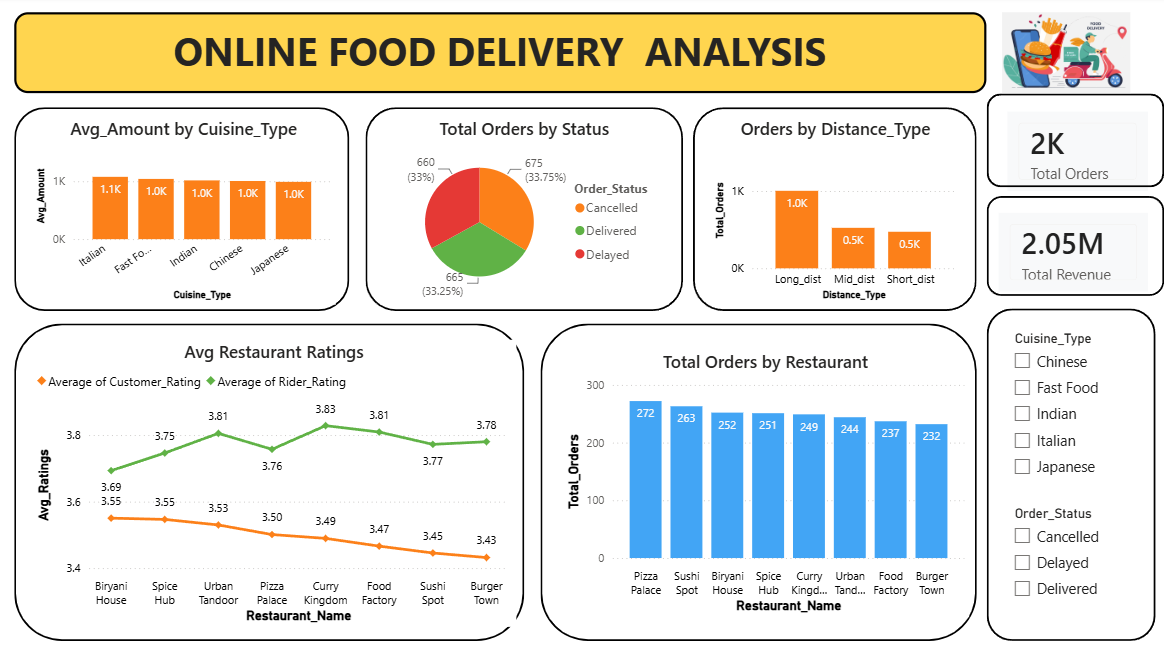

The page's visual inventory and layout, read from the dashboard file:
{"tool":"powerbi","page":{"name":"Page 1","canvas":[1280,720],"ordinal":0},"visuals":[{"type":"shape","box":[17.8,122.1,367.8,223.7],"z":0},{"type":"shape","box":[17.8,359.5,559.9,348.5],"z":1000},{"type":"shape","box":[403.4,122.1,348.5,223.7],"z":2000},{"type":"shape","box":[595.5,359.5,478.9,348.5],"z":3000},{"type":"shape","box":[763,122.1,311.5,223.7],"z":4000},{"type":"shape","box":[1085.4,343.1,185.2,365],"z":5000},{"type":"columnChart","title":"Avg_Amount by Cuisine_Type","fields":{"Y":["Avg(Table_OFD2.Final_Amount)"],"Category":["Table_OFD2.Cuisine_Type"]},"box":[37,133.1,333.4,205.8],"z":6000},{"type":"pieChart","title":"Total Orders by Status","fields":{"Y":["CountNonNull(Table_OFD2.Order_ID)"],"Category":["Table_OFD2.Order_Status"]},"box":[419.9,133.1,315.6,205.8],"z":7000},{"type":"clusteredColumnChart","title":"Total Orders  by Restaurant","fields":{"Y":["CountNonNull(Table_OFD2.Order_ID)"],"Category":["Table_OFD2.Restaurant_Name"]},"box":[618.9,388.3,447.3,293.7],"z":8000},{"type":"lineChart","title":"Avg Restaurant Ratings","fields":{"Y":["Avg(Table_OFD2.Customer_Rating)","Avg(Table_OFD2.Rider_Rating)"],"Category":["Table_OFD2.Restaurant_Name"]},"box":[36.7,377.9,531.9,315.5],"z":9000},{"type":"clusteredColumnChart","title":"Orders by Distance_Type","fields":{"Y":["CountNonNull(Table_OFD2.Order_ID)"],"Category":["Table_OFD2.Distance_Type"]},"box":[782.2,133.1,274.4,205.8],"z":10000},{"type":"slicer","fields":{"Values":["Table_OFD2.Cuisine_Type"]},"box":[1103.3,362.3,148.2,192.1],"z":11000},{"type":"slicer","fields":{"Values":["Table_OFD2.Order_Status"]},"box":[1103.3,554.4,148.2,138.6],"z":12000},{"type":"cardVisual","fields":{"Data":["Table_OFD2.Total Orders"]},"box":[1103.3,122.1,164.7,97.4],"z":13000},{"type":"shape","box":[1085.4,107,194.9,102.9],"z":14000},{"type":"cardVisual","fields":{"Data":["Table_OFD2.Total Revenue"]},"box":[1093.7,233.3,174.3,96.1],"z":15000},{"type":"shape","box":[1085.4,219.6,194.9,109.8],"z":16000},{"type":"textbox","box":[17.8,17.8,1067.6,89.2],"z":17000},{"type":"image","box":[1066.2,17.8,212.7,89.2],"z":18000}]}

Visuals, with their boxes in screenshot pixels (x1, y1, x2, y2), scaled from the page's 1280x720 canvas onto the 1164x647 screenshot:
shape: 16,110,351,311
shape: 16,323,525,636
shape: 367,110,684,311
shape: 542,323,977,636
shape: 694,110,977,311
shape: 987,308,1155,636
"Avg_Amount by Cuisine_Type" columnChart: 34,120,337,305
"Total Orders by Status" pieChart: 382,120,669,305
"Total Orders  by Restaurant" clusteredColumnChart: 563,349,970,613
"Avg Restaurant Ratings" lineChart: 33,340,517,623
"Orders by Distance_Type" clusteredColumnChart: 711,120,961,305
slicer - Table_OFD2.Cuisine_Type: 1003,326,1138,498
slicer - Table_OFD2.Order_Status: 1003,498,1138,623
cardVisual - Table_OFD2.Total Orders: 1003,110,1153,197
shape: 987,96,1163,189
cardVisual - Table_OFD2.Total Revenue: 995,210,1153,296
shape: 987,197,1163,296
textbox: 16,16,987,96
image: 970,16,1163,96
